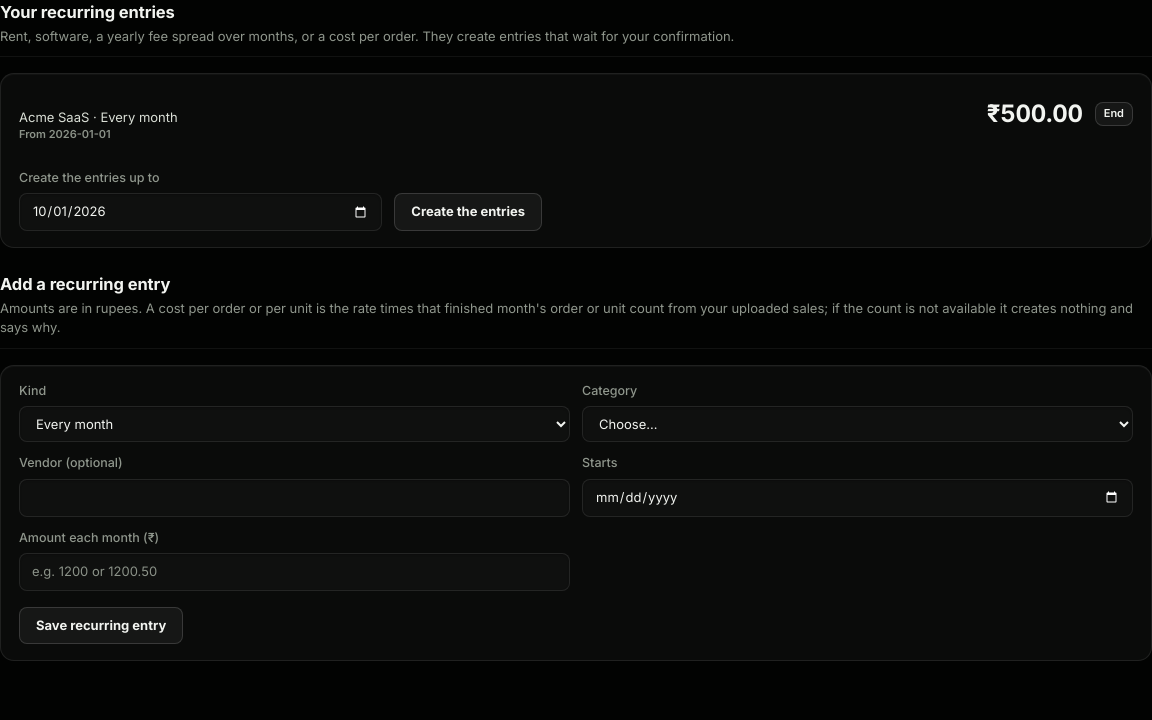
Test: recurring entries › creates the entries up to a month and reports how many wait for review, and what was skipped and why
The image size is (1152, 720).
Expected: the element with test id "template-row" is shown, top-left (19, 90), bottom-right (1133, 153)
Type "2026-03-01" into the date field labelled "Create the entries up to" at (201, 212), box top-left (19, 193), bottom-right (382, 231)
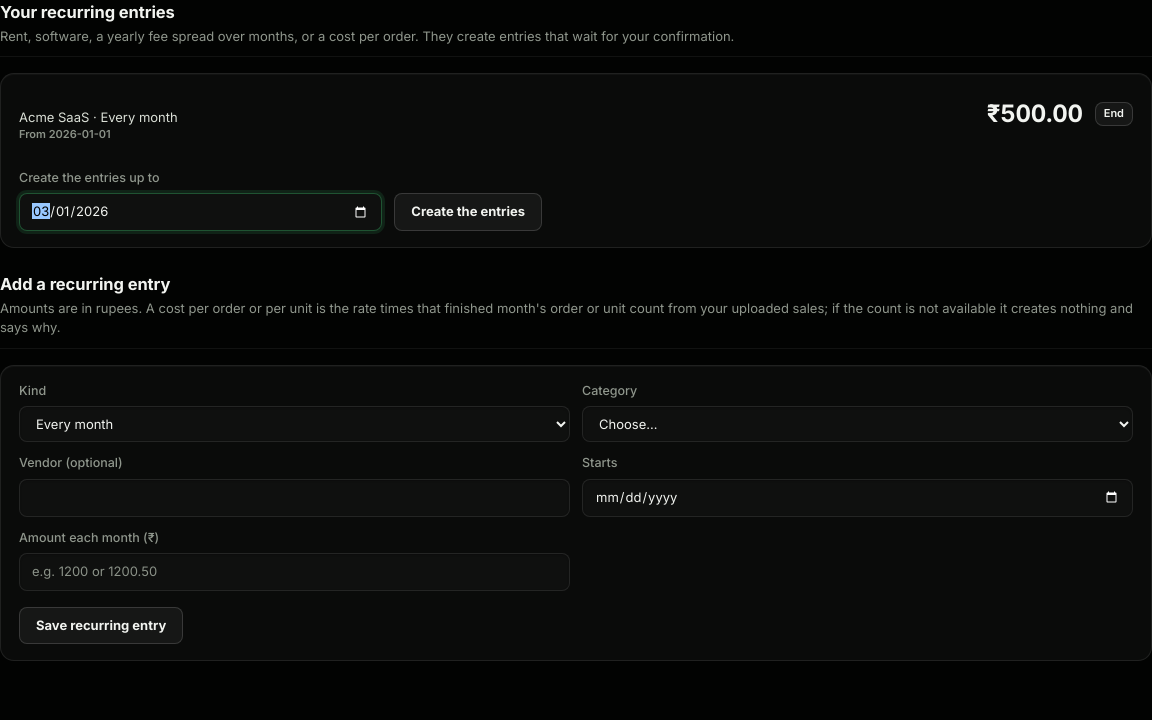
Click the button "Create the entries" at (468, 212), box top-left (394, 193), bottom-right (542, 231)
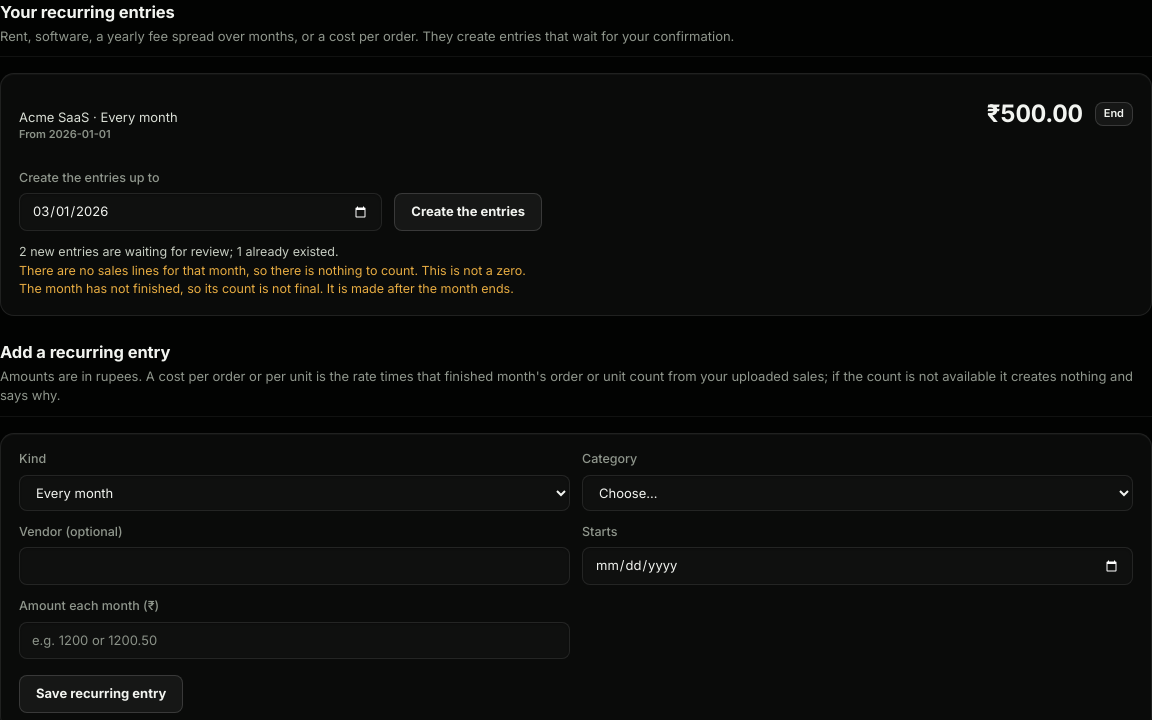
Result: the element with test id "materialise-result" shows "2 new entries are waiting for review; 1 already existed." at top-left (19, 244), bottom-right (526, 296)
Result: the element with test id "materialise-result" shows "There are no sales lines for that month" at top-left (19, 262), bottom-right (526, 278)
Result: the element with test id "materialise-result" shows "The month has not finished" at top-left (19, 281), bottom-right (514, 296)
